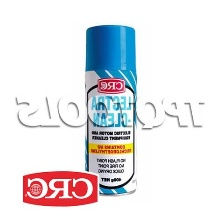aerosol_cans: (82, 21, 140, 197)
